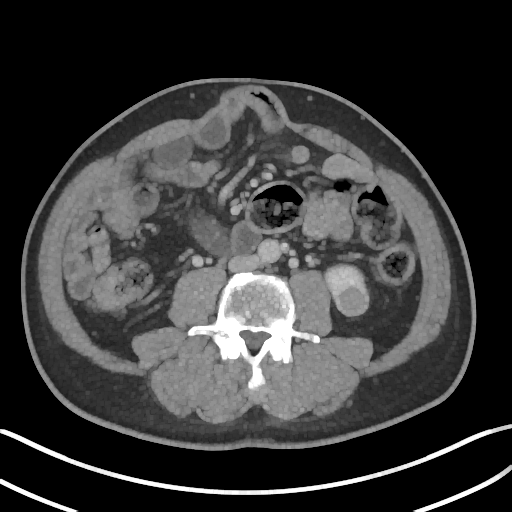Lesion: (332, 283, 371, 319)
